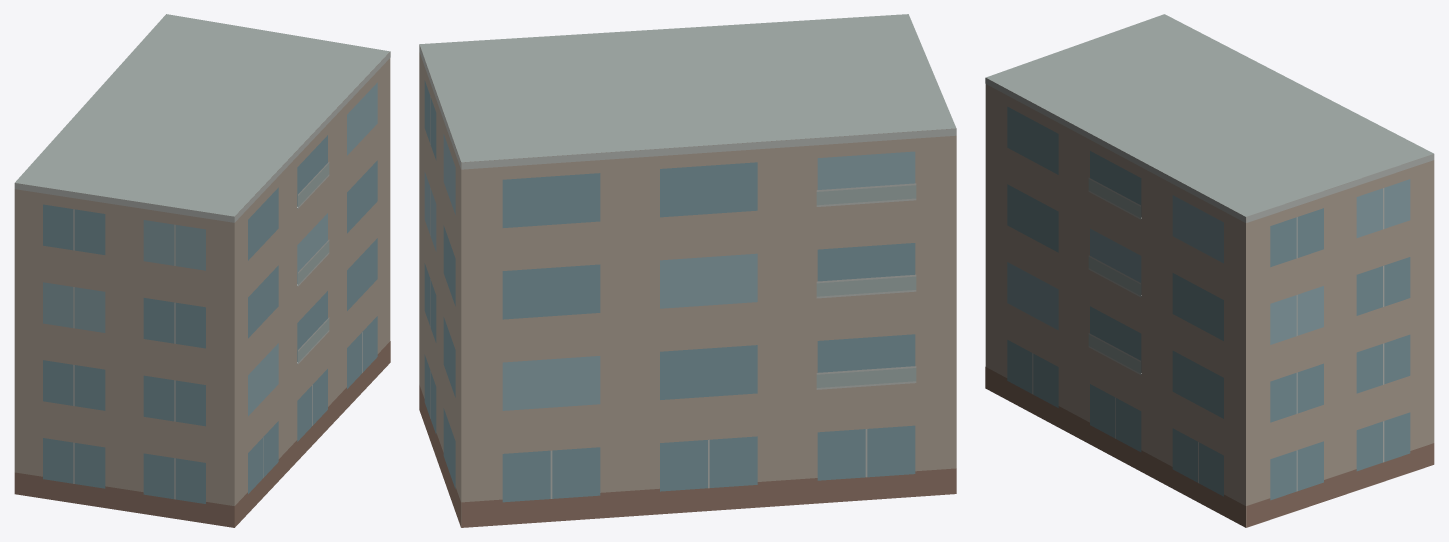
The model's file is survey-upis-32673632.glb.
3 renders of one model, left to right at view 1: azimuth 30°, elevation 25°; view 2: azimuth 150°, elevation 25°; view 3: azimuth 270°, elevation 25°, orthographic. The views are drawn at different scales.
Parts seen in each view (by area): view 1: survey-upis-32673632.tmp; view 2: survey-upis-32673632.tmp; view 3: survey-upis-32673632.tmp.
Boxes of the visible parts, x1,y1,x2,y2 form: survey-upis-32673632.tmp: [14, 14, 390, 527]; survey-upis-32673632.tmp: [419, 14, 956, 527]; survey-upis-32673632.tmp: [985, 14, 1434, 527].
Size of the model in its own units: 17.1 by 12.2 by 15.97.
